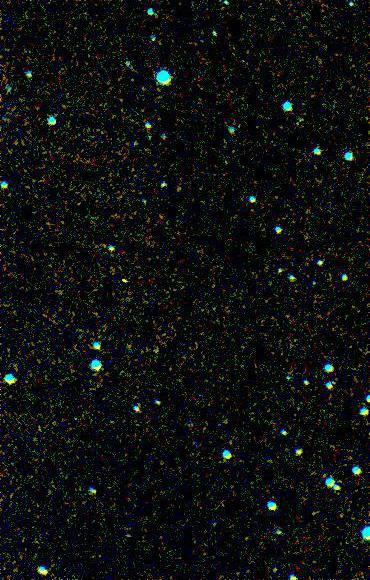star: (108, 269, 138, 299)
